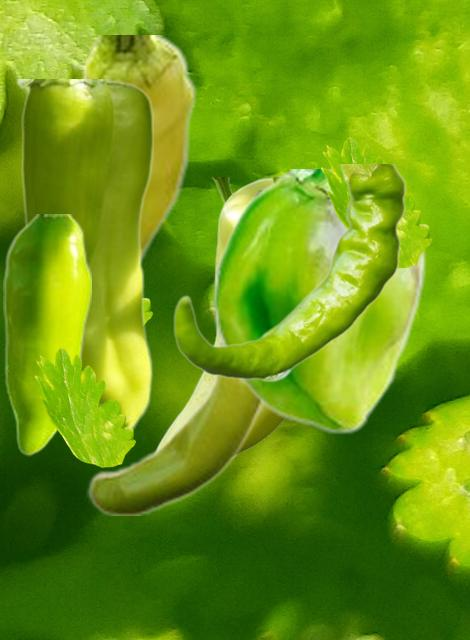green_chili: (212, 169, 426, 434), (173, 164, 406, 381), (15, 79, 152, 429), (155, 177, 285, 456), (86, 342, 267, 514), (76, 35, 196, 264), (3, 214, 90, 455)
